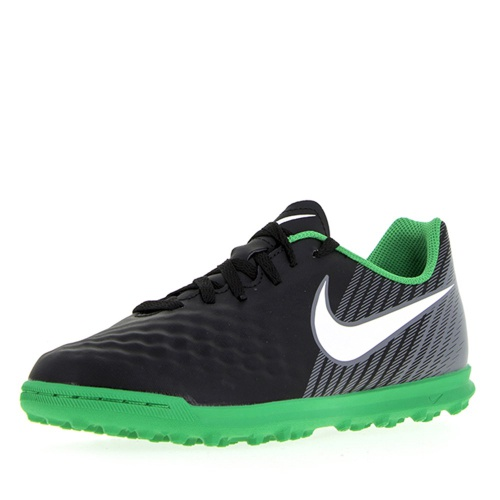nike: (307, 270, 455, 374)
